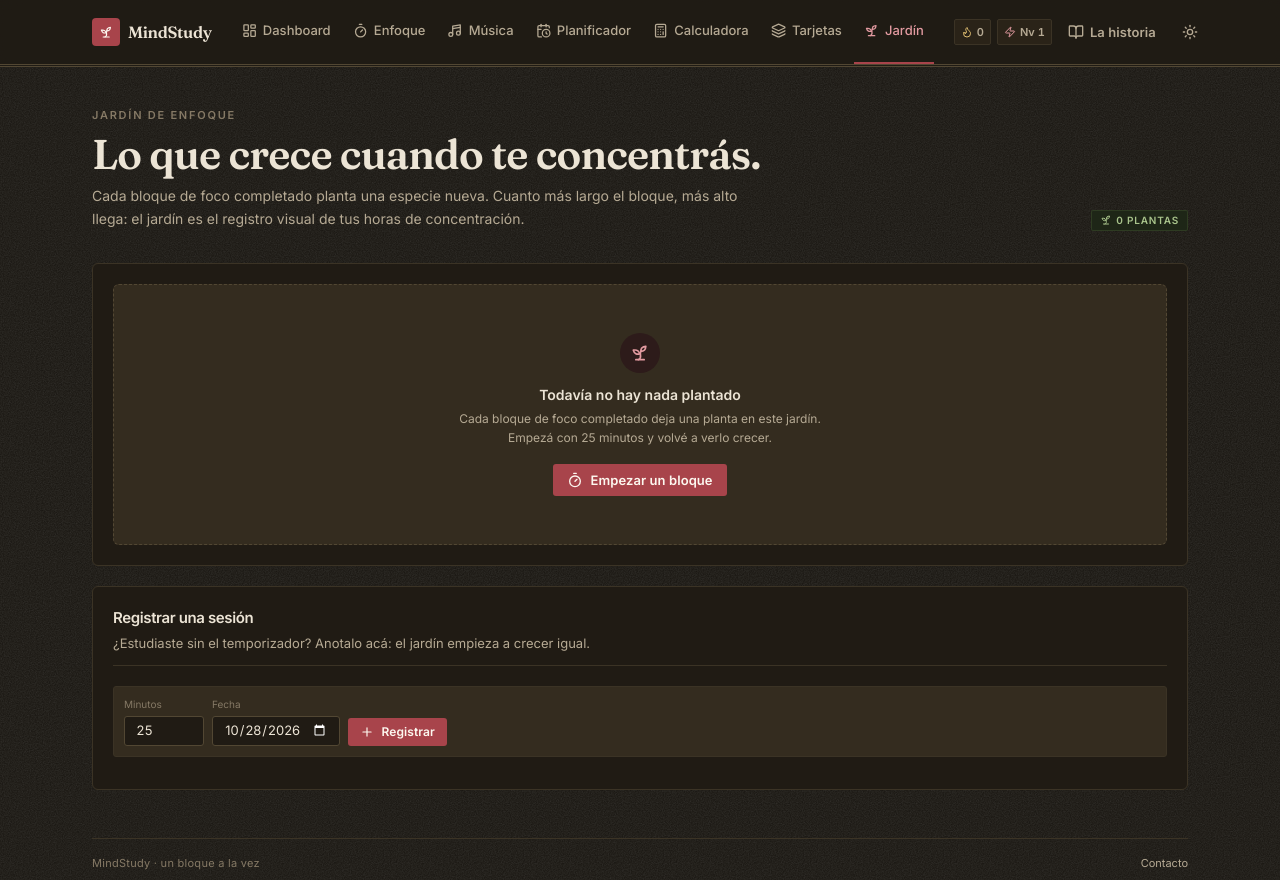
Scenario: App smoke › registra una sesión manual desde el jardín
Check: the text "Todavía no hay nada plantado" is shown, box [539, 385, 741, 405]
Replace the text in the number field named "minutos de la sesión" with "45" at (164, 731), box [124, 716, 204, 746]
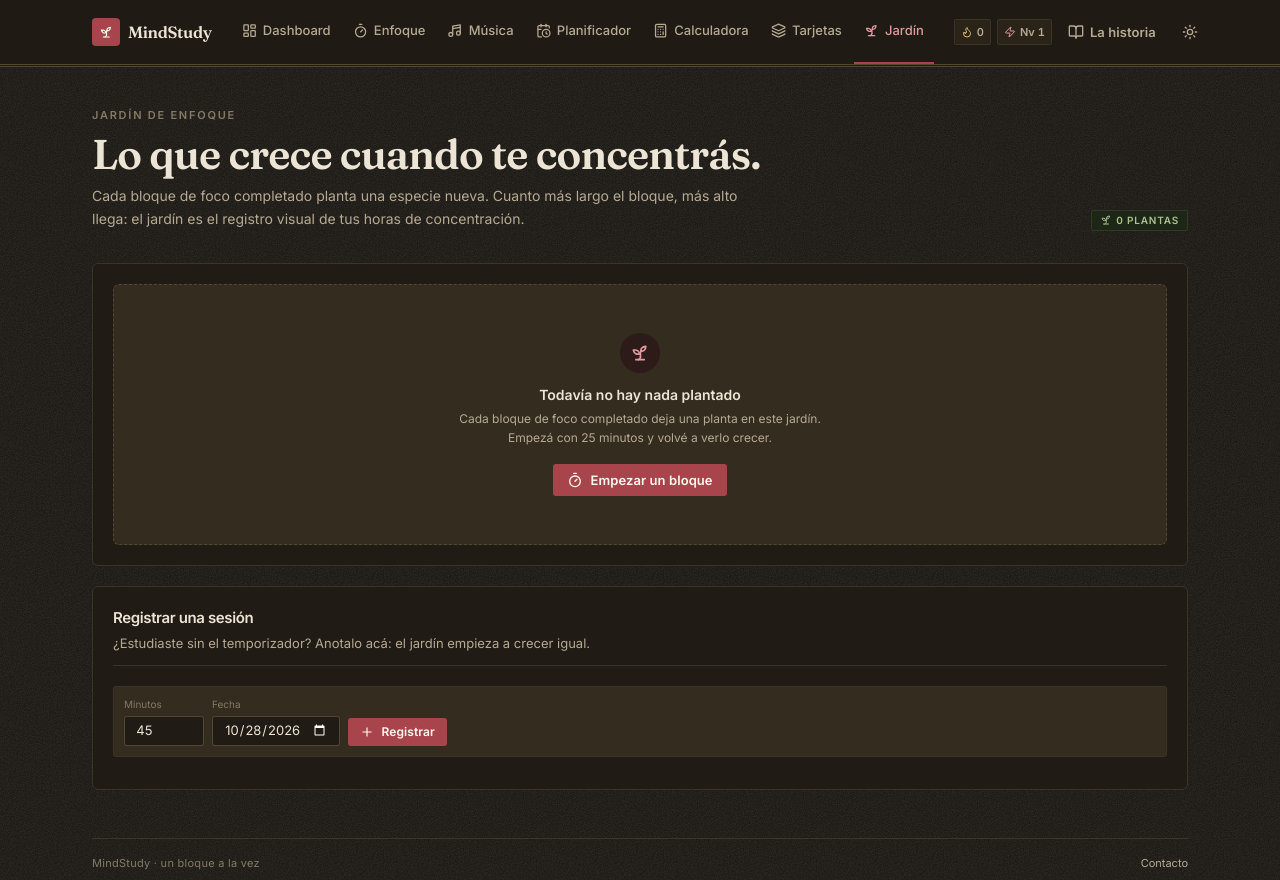
Click the button "Registrar" at (398, 732), box [348, 718, 447, 746]
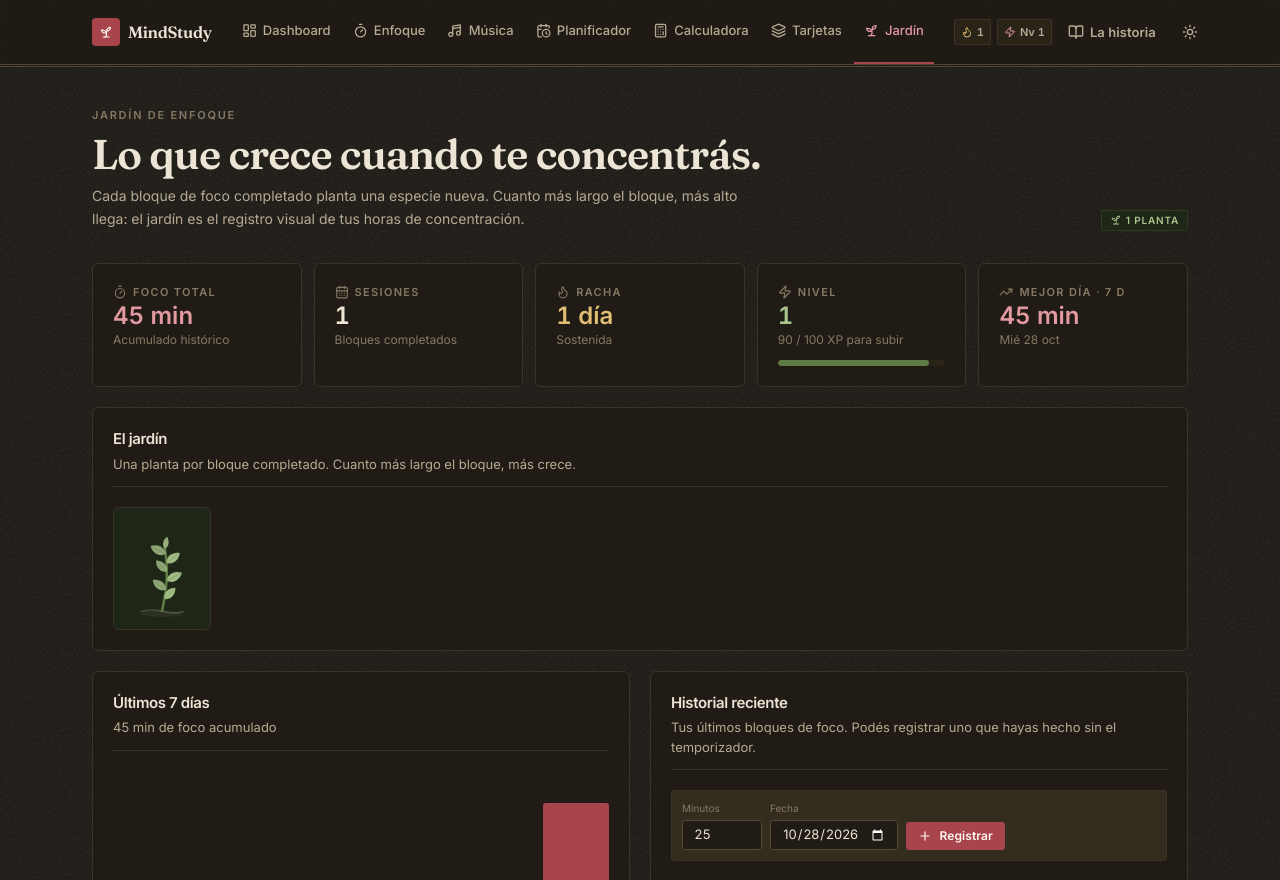
Check: the text "Todavía no hay nada plantado" is gone
